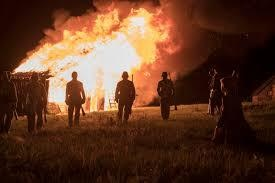fire: (14, 5, 160, 115)
